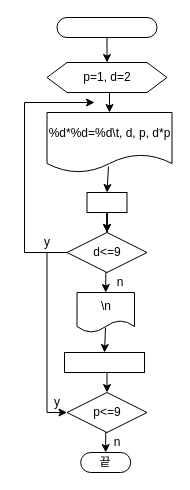
Image size: 190x490. Some labels were removed from this diagram. Here are the shapes that lost their labels. From the top down, the centre of each, then its label:
the point at 106,27: 구구단 출력
the point at 106,202: d++
the point at 104,362: p++, d=2
